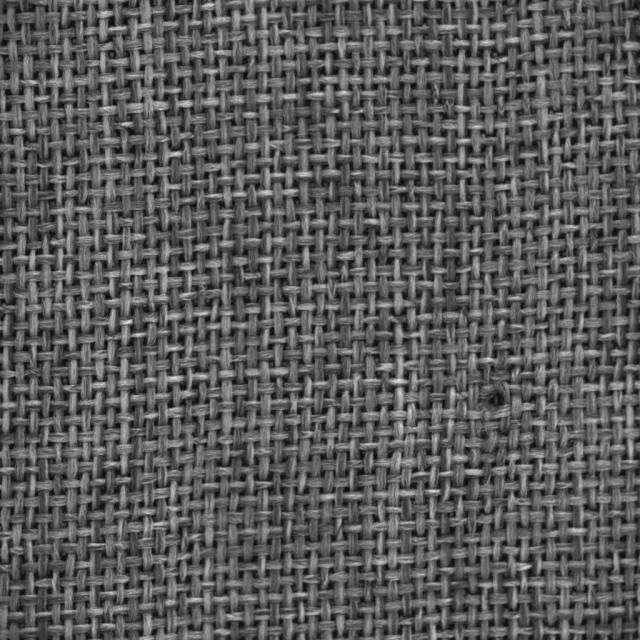other: (483, 378, 513, 418)
